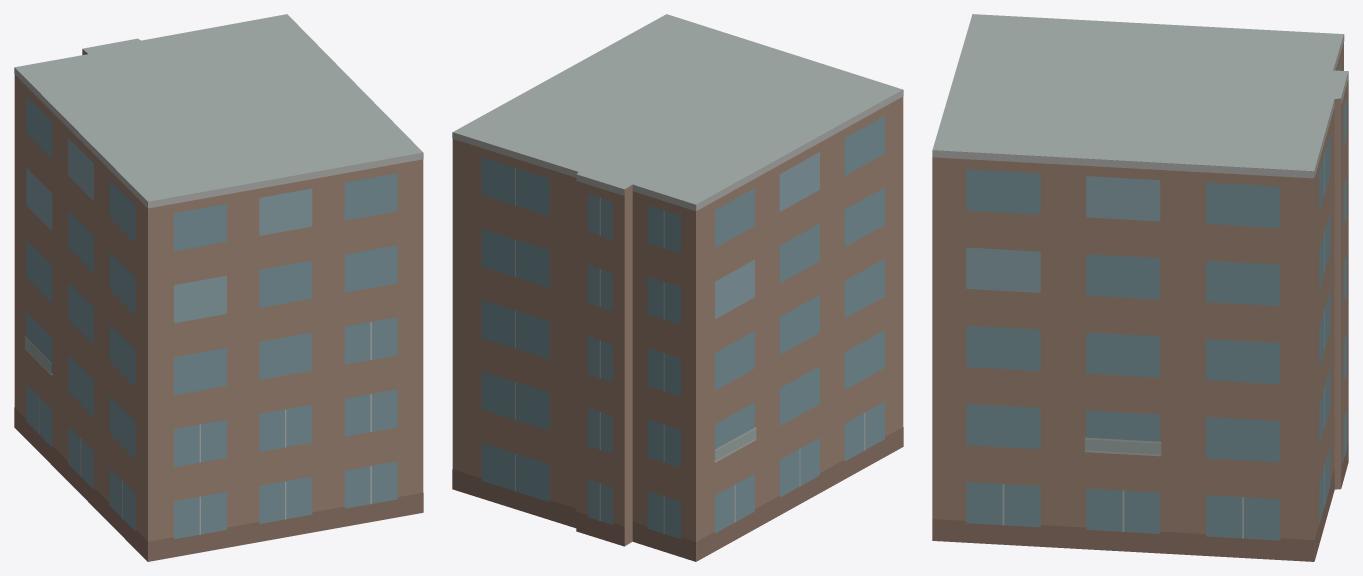
Rendered from survey-upis-32870443.glb.
3 views of the same model, side by side, from view 1: azimuth 30°, elevation 25°; view 2: azimuth 150°, elevation 25°; view 3: azimuth 270°, elevation 25° (orthographic). The views are drawn at different scales.
Visible parts, largest first — view 1: survey-upis-32870443.tmp; view 2: survey-upis-32870443.tmp; view 3: survey-upis-32870443.tmp.
Part boxes in pixels (<box>): survey-upis-32870443.tmp: <box>14,14,423,561</box>; survey-upis-32870443.tmp: <box>452,14,903,561</box>; survey-upis-32870443.tmp: <box>932,14,1348,561</box>.
Size of the model in its own units: 11.4 by 13.2 by 12.76.
